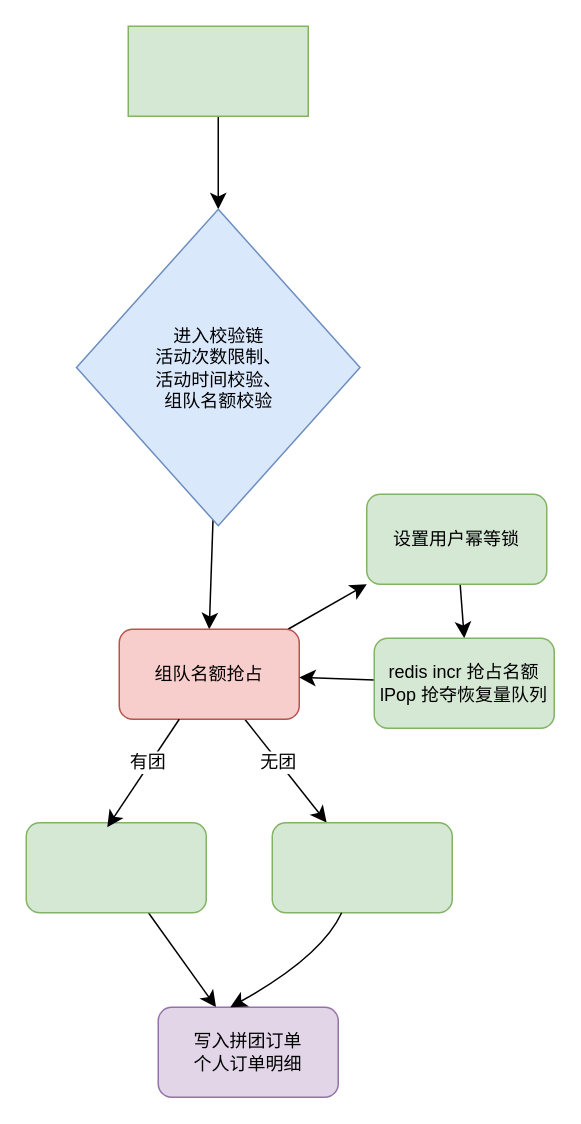
Some shapes in this 581 by 1124 pixel diagram are drawn without their labels. Here are the shapes that lost their labels. From the top down, the box of each, then its label:
(127, 25, 308, 116): 用户锁单
(25, 821, 206, 913): 加入队伍
(271, 821, 452, 913): 创建新团
